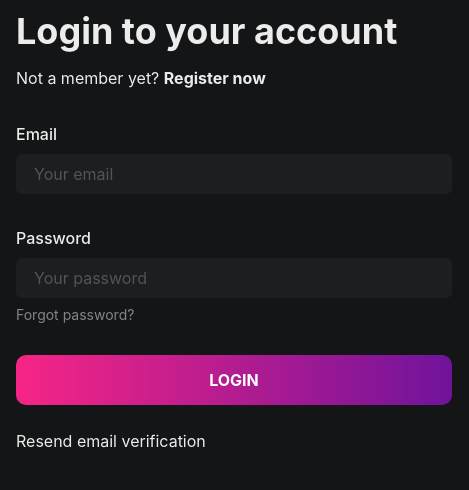
Test: Login › fails validation when no password is provided
The image size is (469, 490).
Type "test@mail.com" into the field named "email".
click(234, 174); type("test@mail.com")  # box [16,154,452,194]
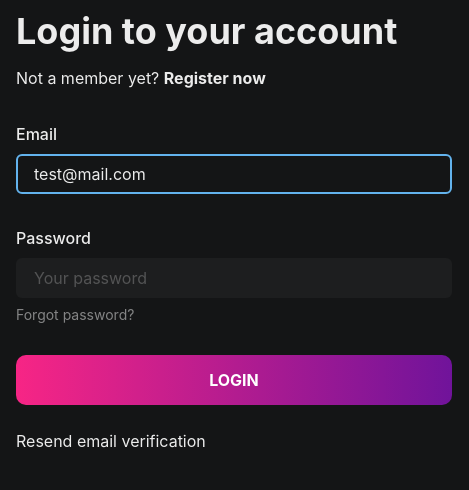
Click the button "Login".
click(234, 380)  # box [16,355,452,405]
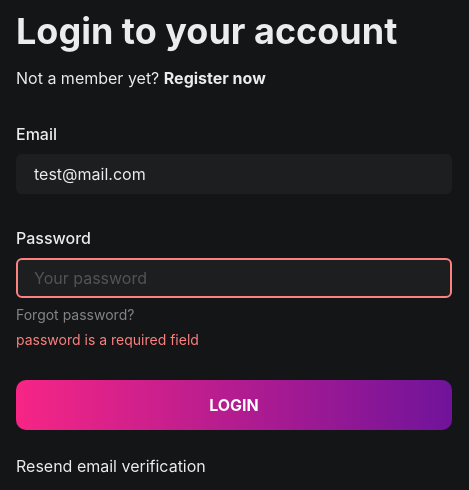
Expected: the text "password is a required field" is shown, [16,331,199,348]
